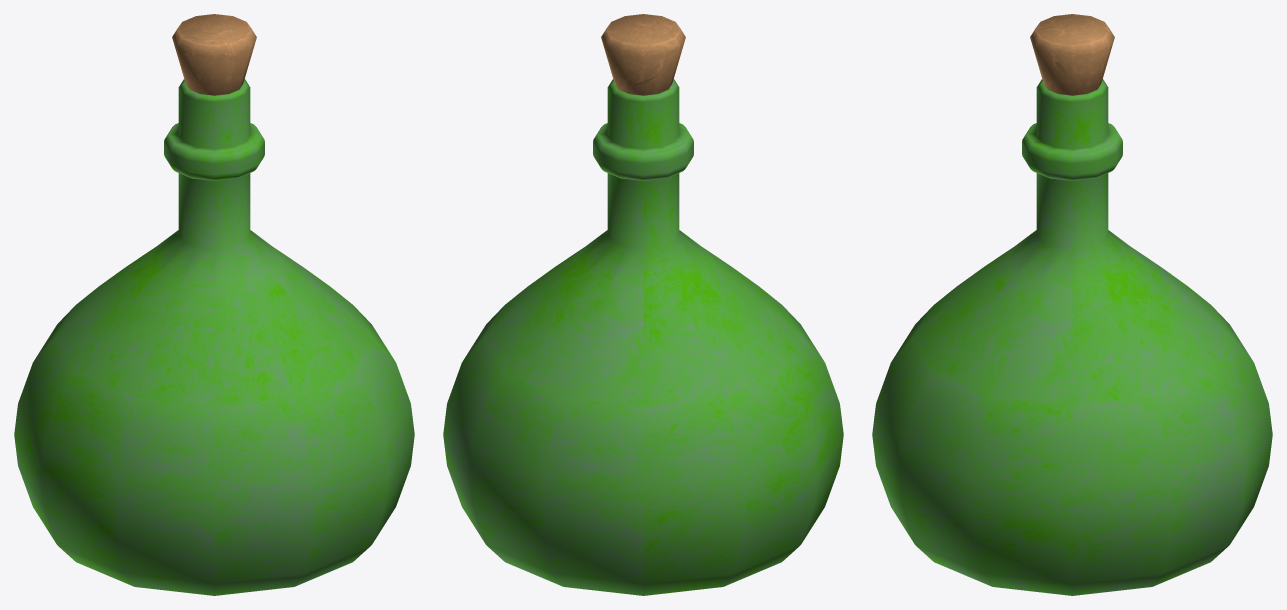
The model's file is bottle_2.fbx.
3 renders of one model, left to right at view 1: azimuth 30°, elevation 25°; view 2: azimuth 150°, elevation 25°; view 3: azimuth 270°, elevation 25°, orthographic.
Visible parts, largest first — view 1: bottle_2, cork; view 2: bottle_2, cork; view 3: bottle_2, cork.
Part boxes in pixels (x1=…): bottle_2: x1=14, y1=79, x2=414, y2=595; cork: x1=172, y1=14, x2=256, y2=95; bottle_2: x1=443, y1=79, x2=843, y2=595; cork: x1=601, y1=14, x2=685, y2=95; bottle_2: x1=872, y1=79, x2=1272, y2=595; cork: x1=1030, y1=14, x2=1114, y2=95.
Bounding box in the file's own units: 353 × 504 × 353.
